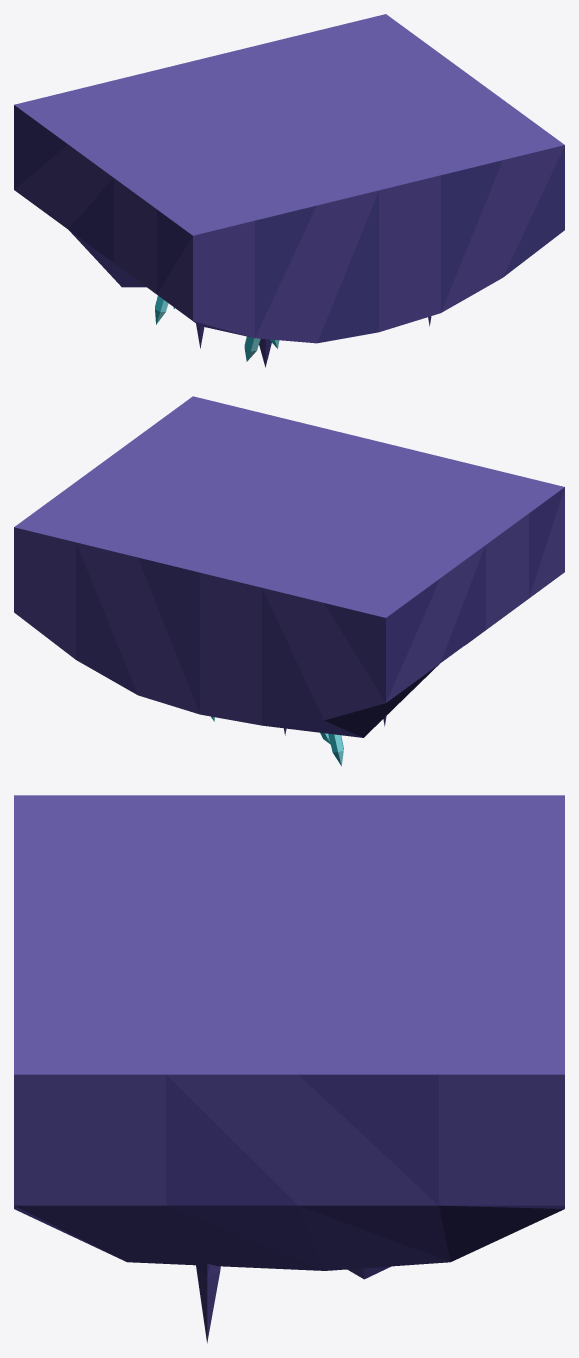
Rendered from Mine_Ceiling_Rock_Crystals.obj.
3 views of the same model, one above another, from view 1: azimuth 30°, elevation 25°; view 2: azimuth 150°, elevation 25°; view 3: azimuth 270°, elevation 25° (orthographic). The views are drawn at different scales.
Parts seen in each view (by area): view 1: Mine_Ceiling_Rock_Crystals; view 2: Mine_Ceiling_Rock_Crystals; view 3: Mine_Ceiling_Rock_Crystals.
Part boxes in pixels (x1=…): Mine_Ceiling_Rock_Crystals: x1=14, y1=14, x2=564, y2=367; Mine_Ceiling_Rock_Crystals: x1=14, y1=396, x2=564, y2=766; Mine_Ceiling_Rock_Crystals: x1=14, y1=795, x2=564, y2=1343.
Bounding box in the file's own units: 4.8 × 2.59 × 4.
